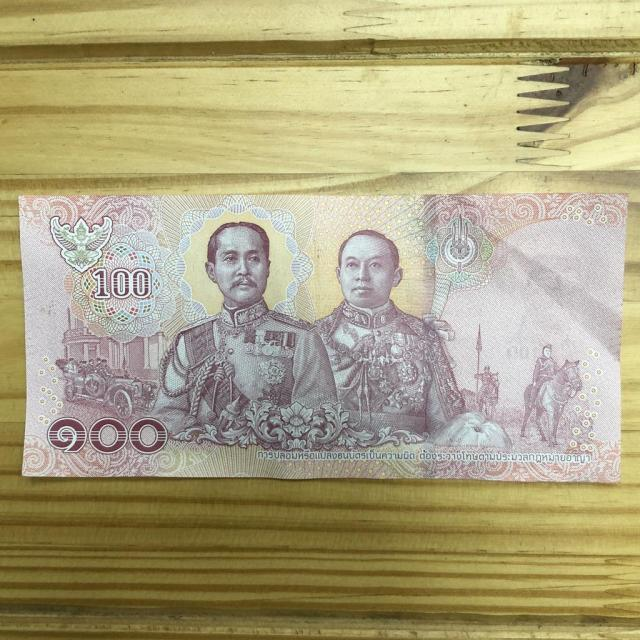THAI100: (19, 193, 628, 482)
